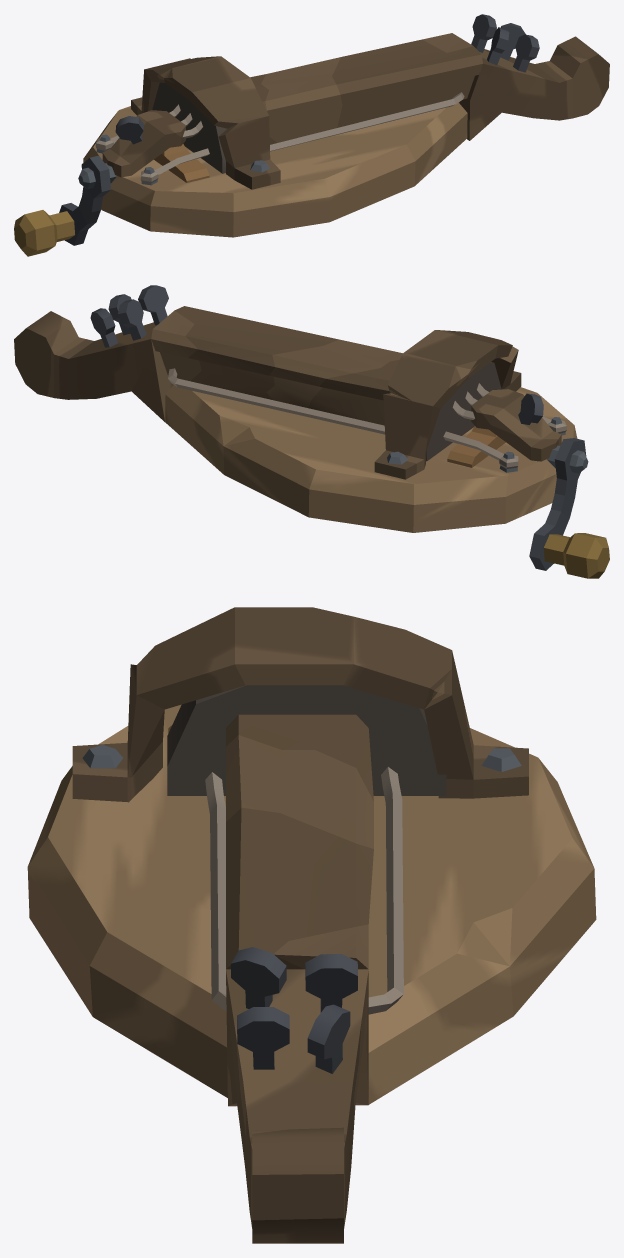
The model's file is SM_Prop_Hurdy_Gurdy_01.fbx.
The picture shows the model from 3 angles, top to bottom: view 1: azimuth 30°, elevation 25°; view 2: azimuth 150°, elevation 25°; view 3: azimuth 270°, elevation 25°; orthographic projection. The views are drawn at different scales.
Visible parts, largest first — view 1: SM_Prop_Hurdy_Gurdy_01; view 2: SM_Prop_Hurdy_Gurdy_01; view 3: SM_Prop_Hurdy_Gurdy_01.
Part boxes in pixels (x1,y1,x2,y2): SM_Prop_Hurdy_Gurdy_01: (14, 14, 609, 256); SM_Prop_Hurdy_Gurdy_01: (14, 285, 609, 578); SM_Prop_Hurdy_Gurdy_01: (27, 607, 596, 1243).
Size of the model in its own units: 95.59 by 26.09 by 42.23.
